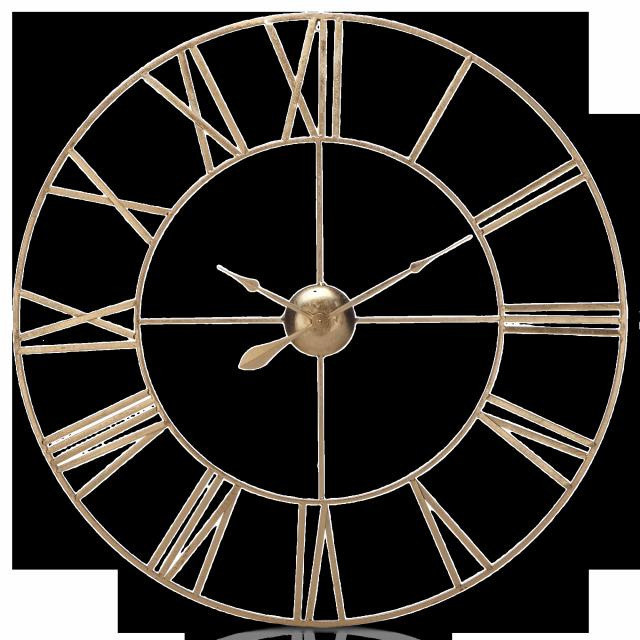clock: (0, 0, 585, 614)
